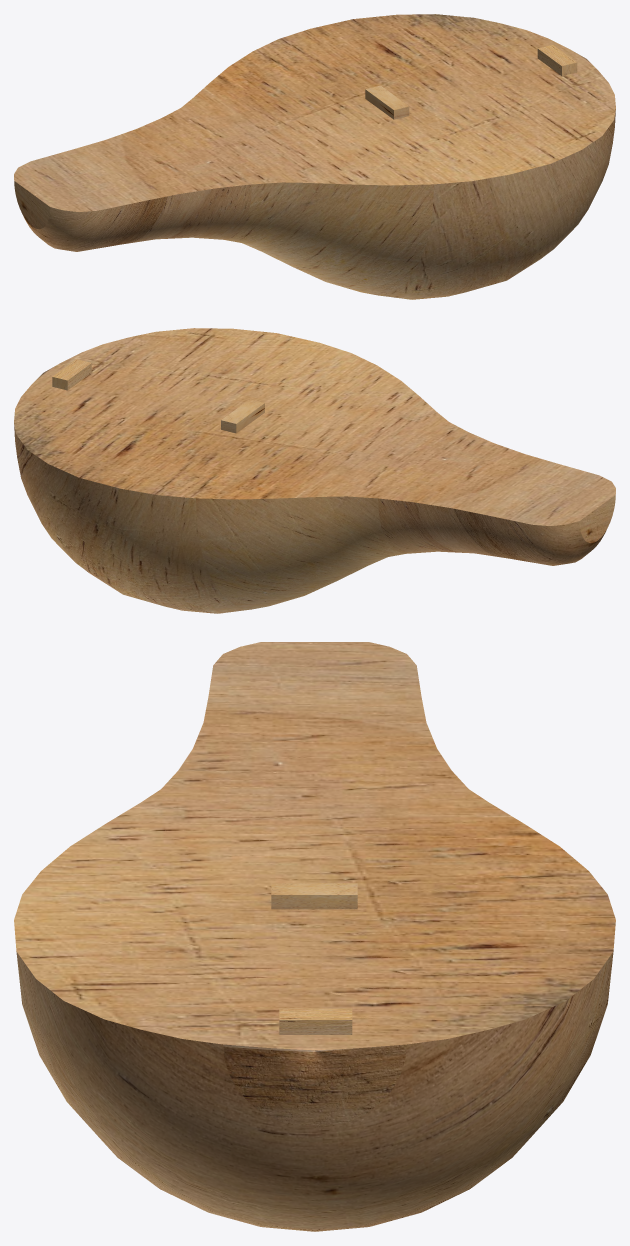
File: Govde.fbx
The picture shows the model from 3 angles, top to bottom: view 1: azimuth 30°, elevation 25°; view 2: azimuth 150°, elevation 25°; view 3: azimuth 270°, elevation 25°; orthographic projection. The views are drawn at different scales.
Visible parts, largest first — view 1: Kopuz Gövde; view 2: Kopuz Gövde; view 3: Kopuz Gövde.
Part boxes in pixels (left/top/right/bottom): Kopuz Gövde: left=14, top=14, right=615, bottom=299; Kopuz Gövde: left=14, top=328, right=615, bottom=613; Kopuz Gövde: left=14, top=642, right=615, bottom=1231.
Size of the model in its own units: 0.6003 by 0.1974 by 0.374.
